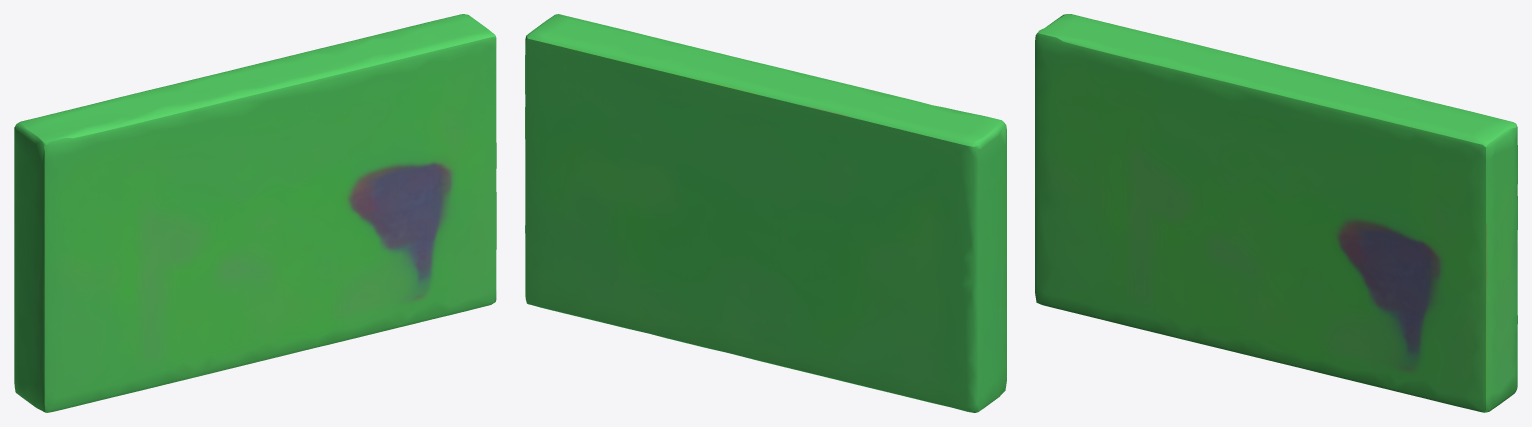
Rendered from sage-green-wall.glb.
3 renders of one model, left to right at view 1: azimuth 30°, elevation 25°; view 2: azimuth 150°, elevation 25°; view 3: azimuth 330°, elevation 25°, orthographic.
Parts seen in each view (by area): view 1: geometry_0; view 2: geometry_0; view 3: geometry_0.
Part boxes in pixels (<box>): geometry_0: <box>14,14,496,412</box>; geometry_0: <box>525,14,1006,412</box>; geometry_0: <box>1035,14,1517,412</box>.
Size of the model in its own units: 1 by 0.574 by 0.1235.
Materials: 1 (1 with a texture image).
